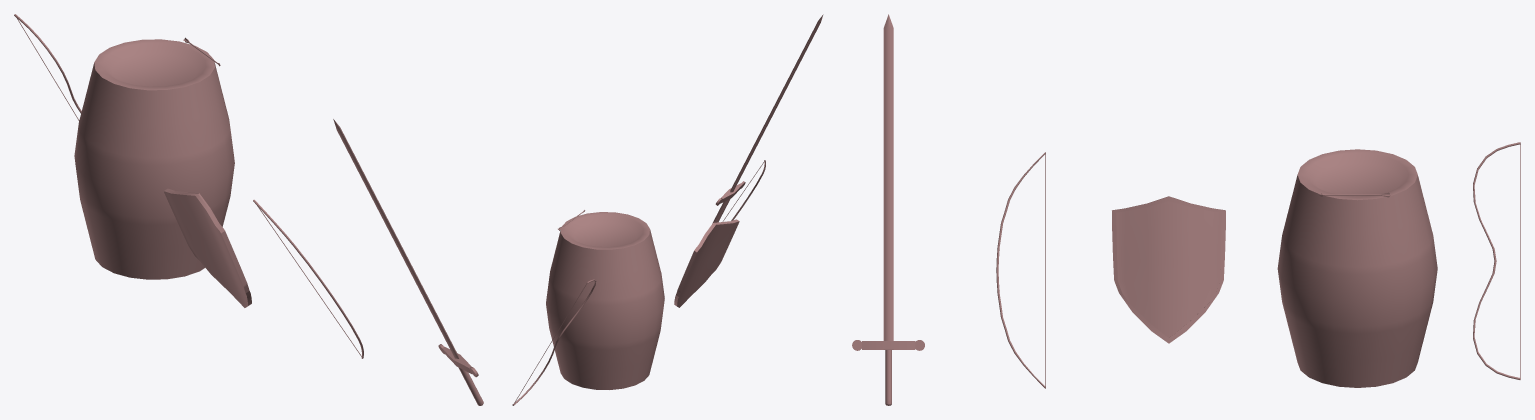
File: props.fbx
3 renders of one model, left to right at view 1: azimuth 30°, elevation 25°; view 2: azimuth 150°, elevation 25°; view 3: azimuth 270°, elevation 25°, orthographic. The views are drawn at different scales.
Parts seen in each view (by area): view 1: pCylinder1, castle:pCube122, castle:castle:pCube124, bowlvl1:pCylinder4, bowlvl2:pCylinder3; view 2: pCylinder1, castle:pCube122, castle:castle:pCube124, bowlvl2:pCylinder3; view 3: pCylinder1, castle:pCube122, castle:castle:pCube124, bowlvl2:pCylinder3, bowlvl1:pCylinder4.
Boxes of the visible parts, box(x1,y1,x2,y2) form: pCylinder1: box(74, 39, 234, 279); castle:pCube122: box(163, 188, 251, 307); castle:castle:pCube124: box(333, 119, 483, 405); bowlvl1:pCylinder4: box(253, 199, 363, 358); bowlvl2:pCylinder3: box(14, 14, 81, 120); pCylinder1: box(546, 212, 664, 389); castle:pCube122: box(674, 219, 739, 307); castle:castle:pCube124: box(712, 14, 823, 223); bowlvl2:pCylinder3: box(512, 279, 596, 405); pCylinder1: box(1277, 149, 1437, 387); castle:pCube122: box(1112, 196, 1225, 343); castle:castle:pCube124: box(852, 14, 924, 405); bowlvl2:pCylinder3: box(1473, 142, 1520, 379); bowlvl1:pCylinder4: box(996, 152, 1045, 388).
Bounding box in the file's own units: 99.86 × 191 × 360.
